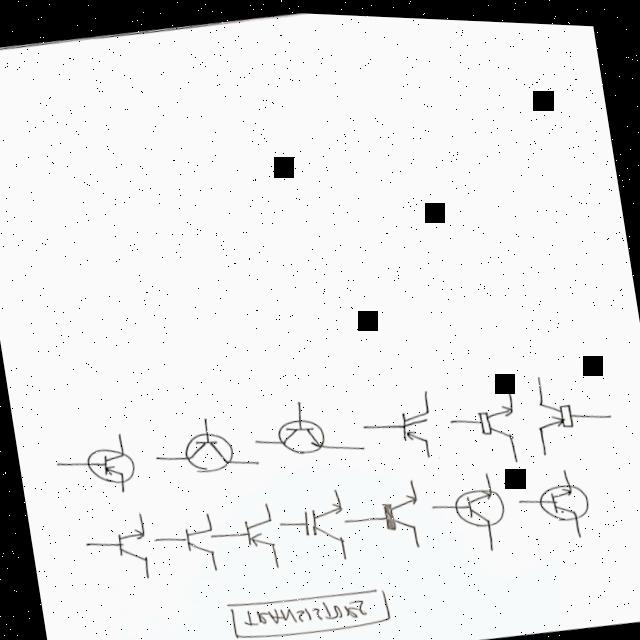transistor: (164, 420, 242, 483), (264, 402, 340, 465), (527, 466, 599, 531), (442, 470, 510, 538), (288, 488, 350, 560), (75, 430, 144, 492), (524, 373, 585, 443), (100, 507, 158, 578), (368, 478, 429, 544), (464, 386, 524, 451), (230, 507, 284, 564), (385, 395, 440, 450), (170, 512, 220, 565)
